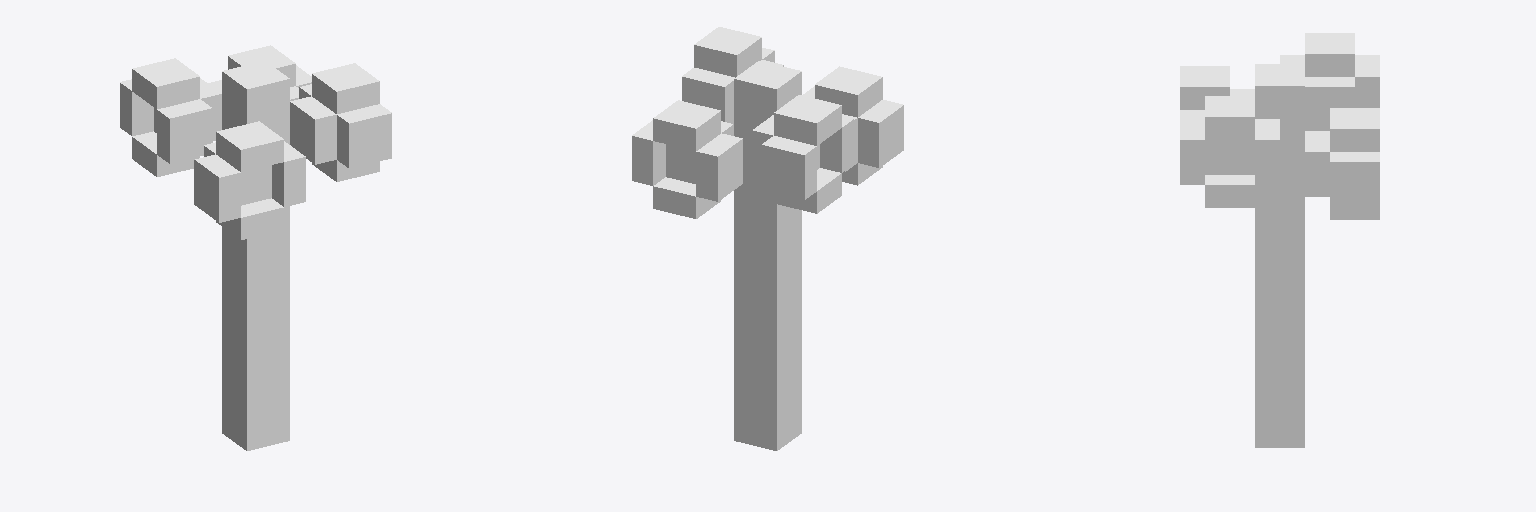
File: obje_radio_tower.obj
The picture shows the model from 3 angles: view 1: azimuth 30°, elevation 25°; view 2: azimuth 150°, elevation 25°; view 3: azimuth 270°, elevation 25°; orthographic projection.
Size of the model in its own units: 8 by 16 by 8.